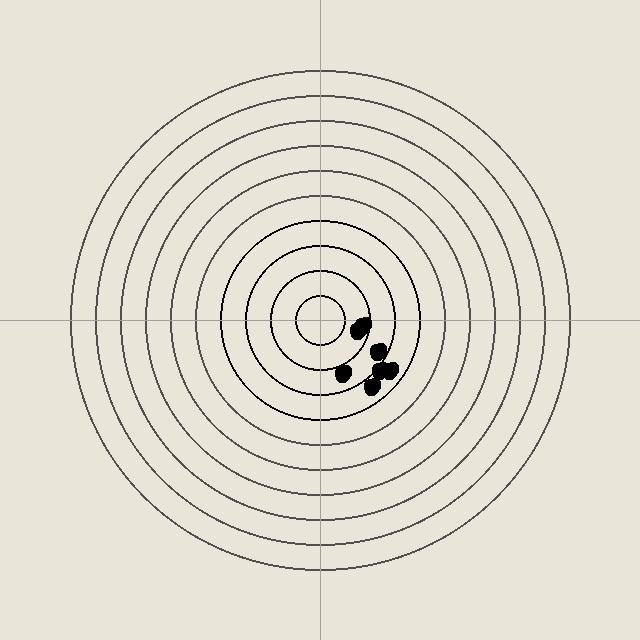good_group: (347, 320, 367, 340), (367, 341, 387, 361), (379, 360, 399, 380), (369, 360, 389, 380), (352, 315, 372, 335), (332, 363, 352, 383), (361, 376, 381, 396)
